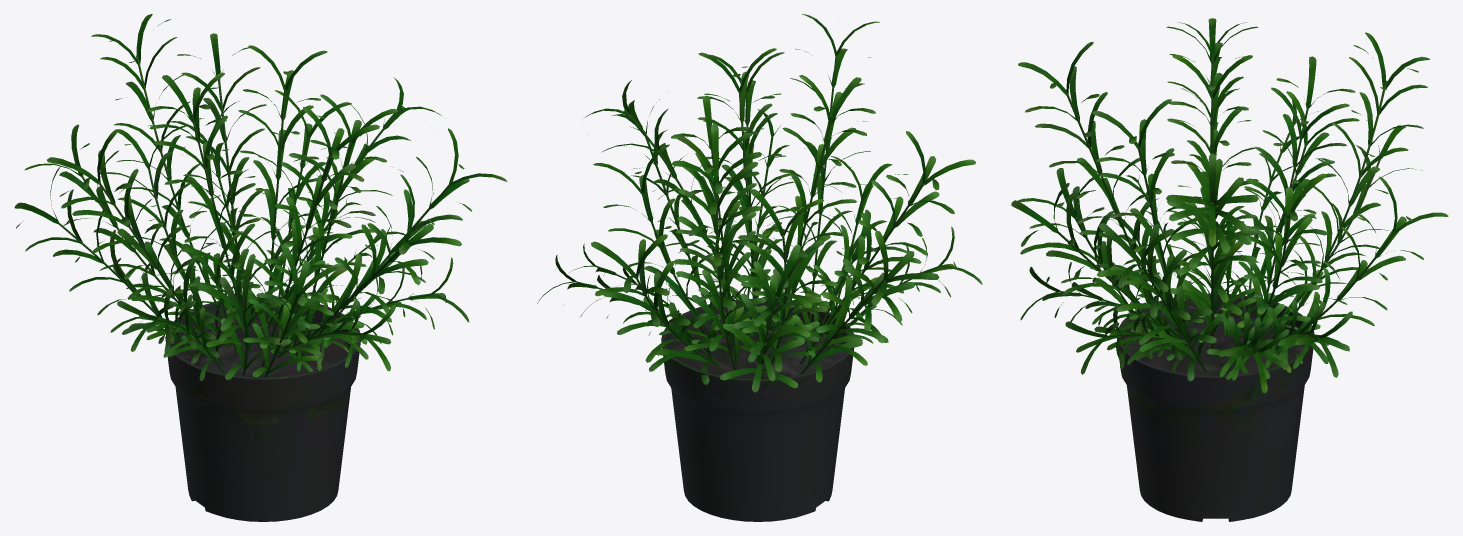
File: 80610747-mini.glb
3 renders of one model, left to right at view 1: azimuth 30°, elevation 25°; view 2: azimuth 150°, elevation 25°; view 3: azimuth 270°, elevation 25°, orthographic. The views are drawn at different scales.
Parts seen in each view (by area): view 1: Obj3d66-517488-7-345; view 2: Obj3d66-517488-7-345; view 3: Obj3d66-517488-7-345.
Boxes of the visible parts, box(x1,y1,x2,y2) form: Obj3d66-517488-7-345: box(14, 14, 507, 521); Obj3d66-517488-7-345: box(537, 14, 982, 521); Obj3d66-517488-7-345: box(1011, 18, 1448, 521).
Bounding box in the file's own units: 0.2246 × 0.2252 × 0.2039.
Materials: 1 (1 with a texture image).
